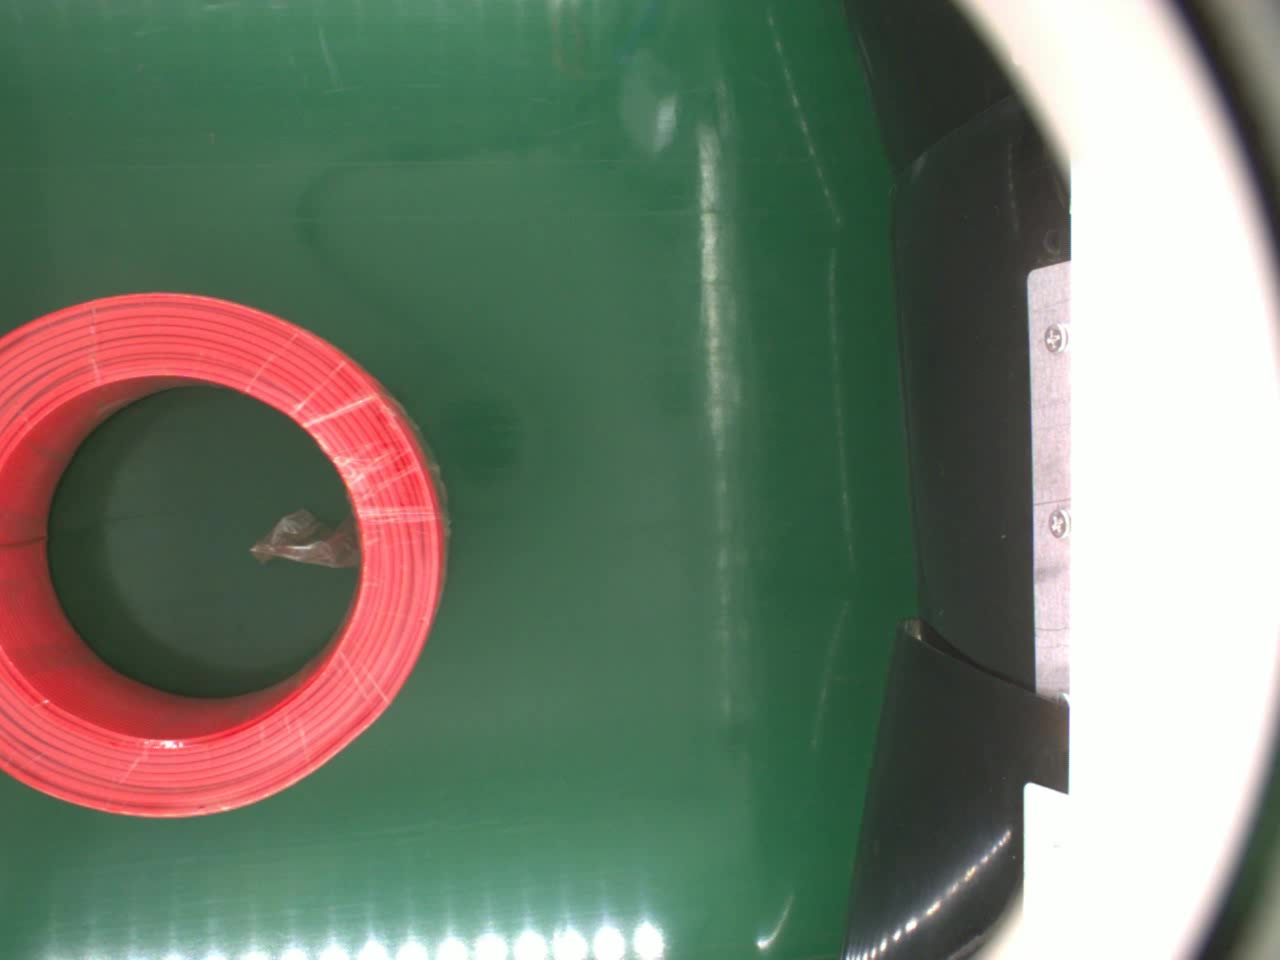red: (0, 290, 451, 821)
